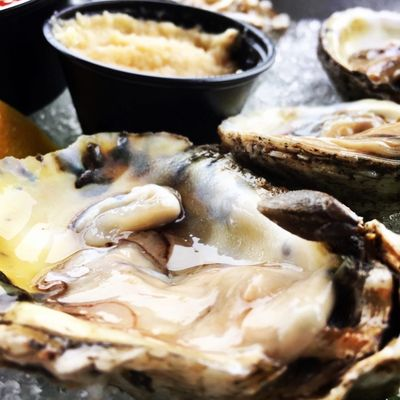sushi: (43, 1, 276, 139)
